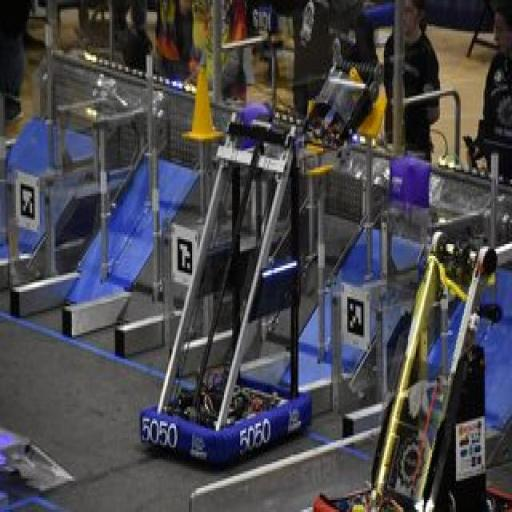robot: (129, 32, 303, 482), (299, 225, 512, 507)
